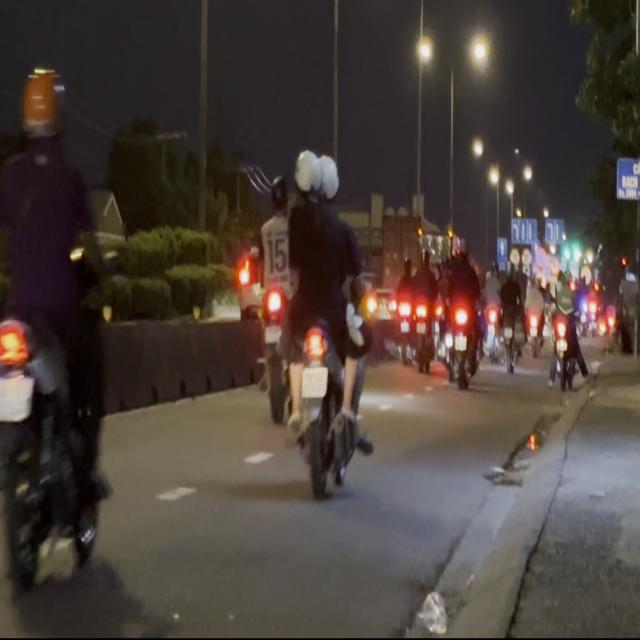helmet: (18, 65, 66, 152), (292, 148, 319, 198), (314, 152, 339, 205)
licenseplate: (0, 63, 117, 609), (270, 146, 370, 496)
nohelmet: (0, 376, 32, 419), (300, 366, 327, 398), (263, 324, 280, 343)
